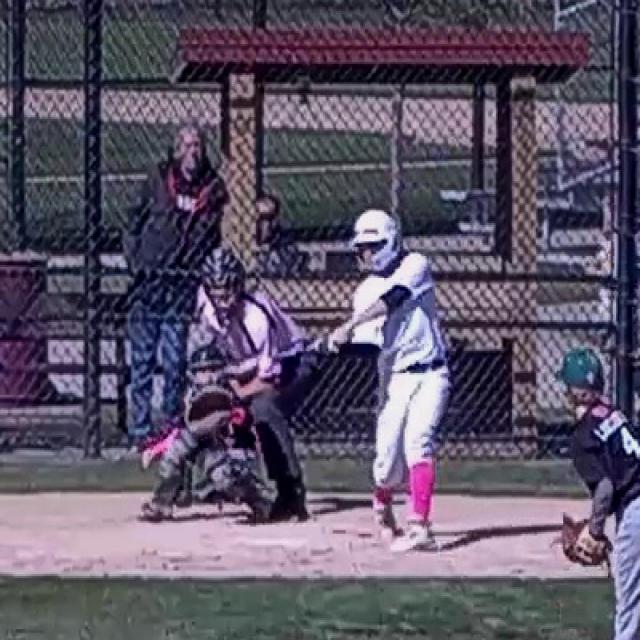baseball: (260, 357, 270, 369)
